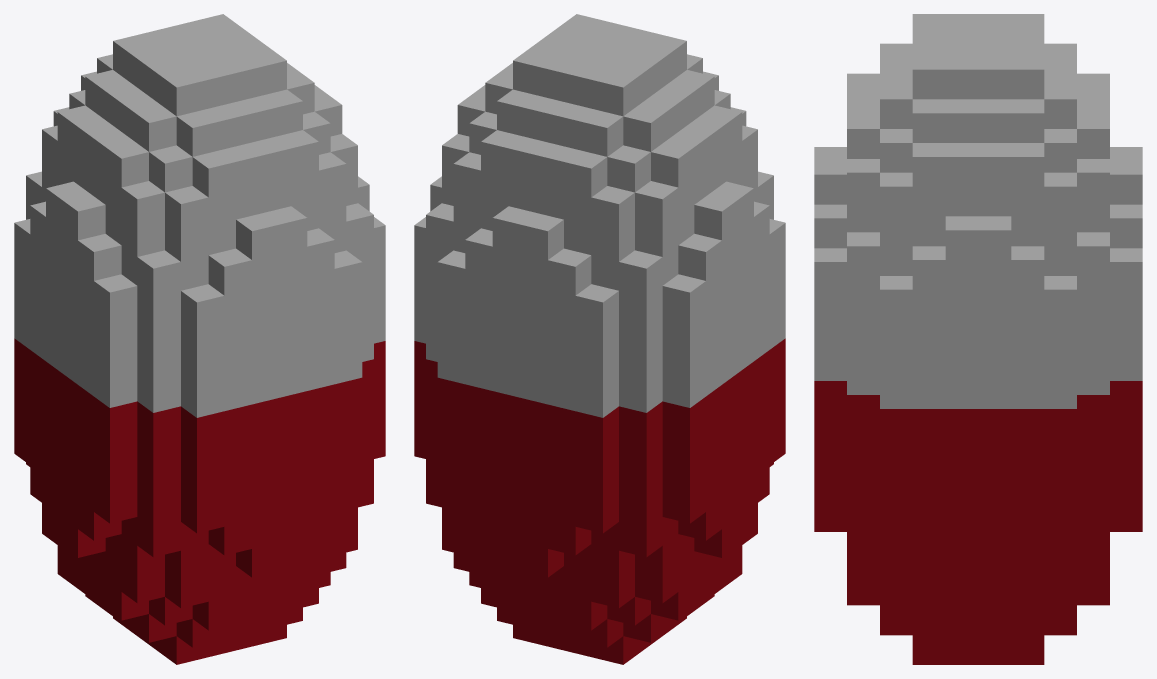
The model's file is capsule_red.fbx.
3 views of the same model, side by side, from view 1: azimuth 30°, elevation 25°; view 2: azimuth 150°, elevation 25°; view 3: azimuth 270°, elevation 25° (orthographic). The views are drawn at different scales.
Parts seen in each view (by area): view 1: Matrix; view 2: Matrix; view 3: Matrix.
Part boxes in pixels (x1,y1,x2,y2): Matrix: (14, 14, 385, 664); Matrix: (414, 14, 785, 664); Matrix: (814, 14, 1142, 664).
Bounding box in the file's own units: 10 × 20 × 10.
